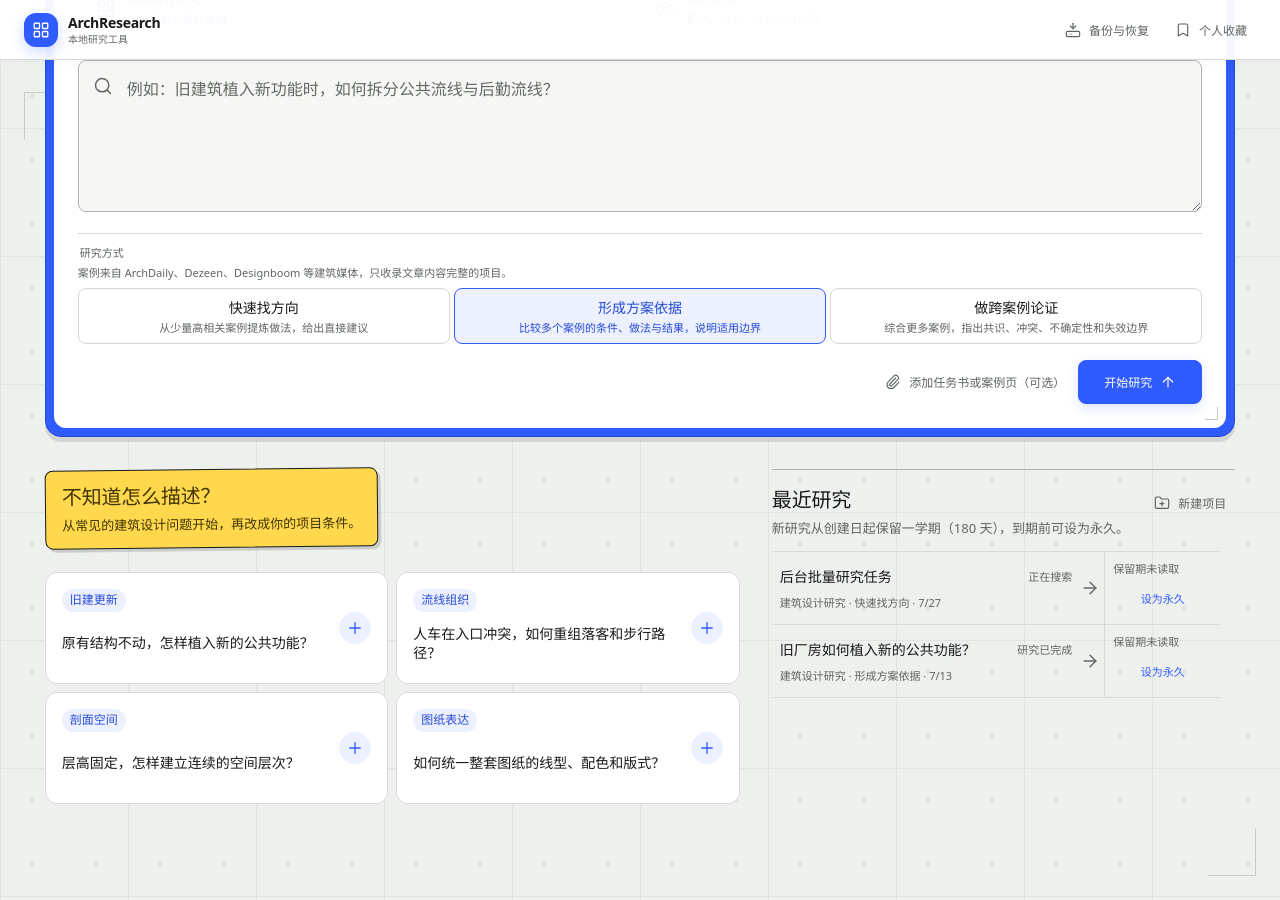
Test: research board › opens a completed record normally while background research is running
The image size is (1280, 900).
(page scrolled)
Click the button "旧厂房如何植入新的公共功能？ 建筑设计研究 · 形成方案依据 · 7/13 研究已完成": (938, 661) 772,625 -> 1104,697
(page scrolled)
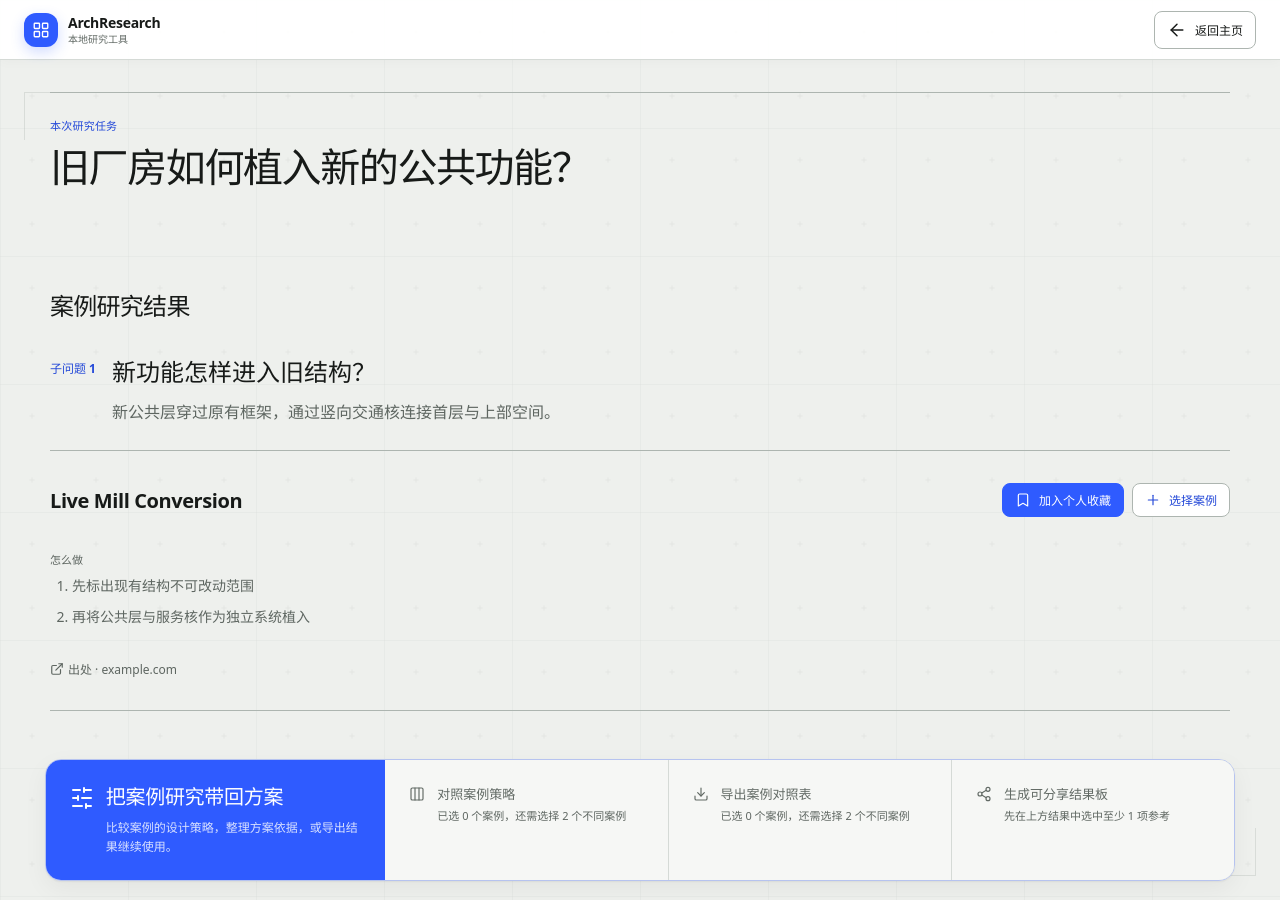
Expected: the element named "代表案例 Live Mill Conversion" is shown, 50,451 -> 1230,710
